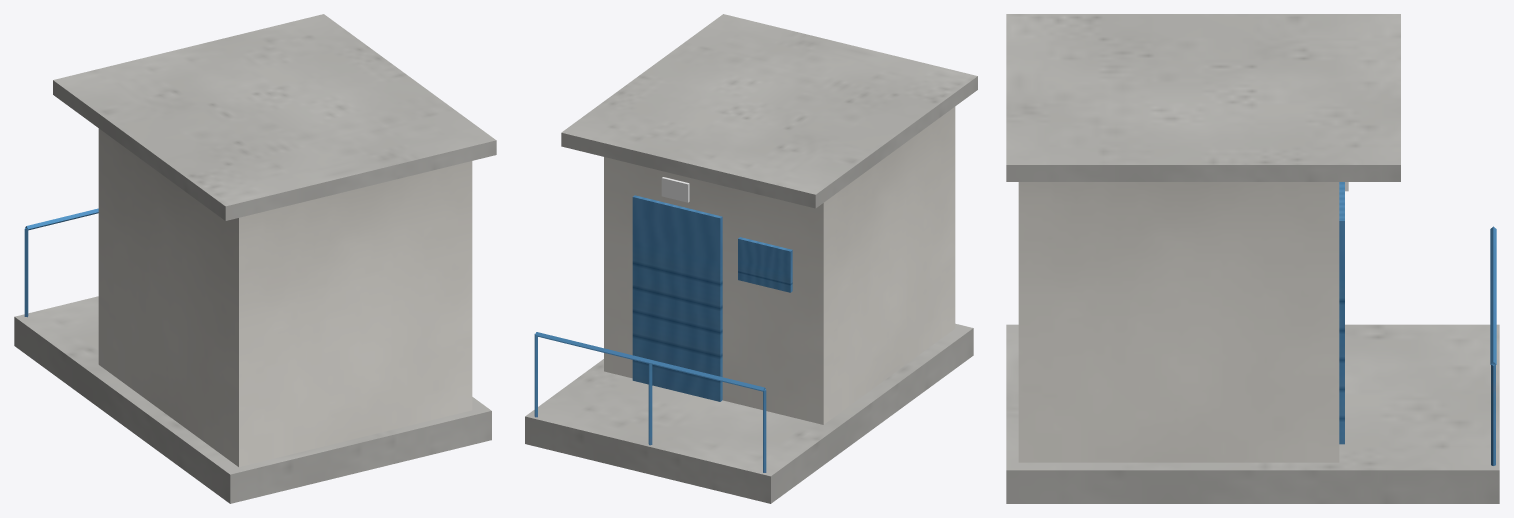
File: beach-cabin.glb
3 views of the same model, side by side, from view 1: azimuth 30°, elevation 25°; view 2: azimuth 150°, elevation 25°; view 3: azimuth 270°, elevation 25° (orthographic). The views are drawn at different scales.
Parts seen in each view (by area): view 1: beach_cabin; view 2: beach_cabin; view 3: beach_cabin.
Boxes of the visible parts, left/top/right/bottom form: beach_cabin: left=14, top=14, right=496, bottom=503; beach_cabin: left=525, top=14, right=977, bottom=503; beach_cabin: left=1006, top=14, right=1499, bottom=503.
Bounding box in the file's own units: 2.9 × 3.06 × 4.
1 material, 1 textured.
